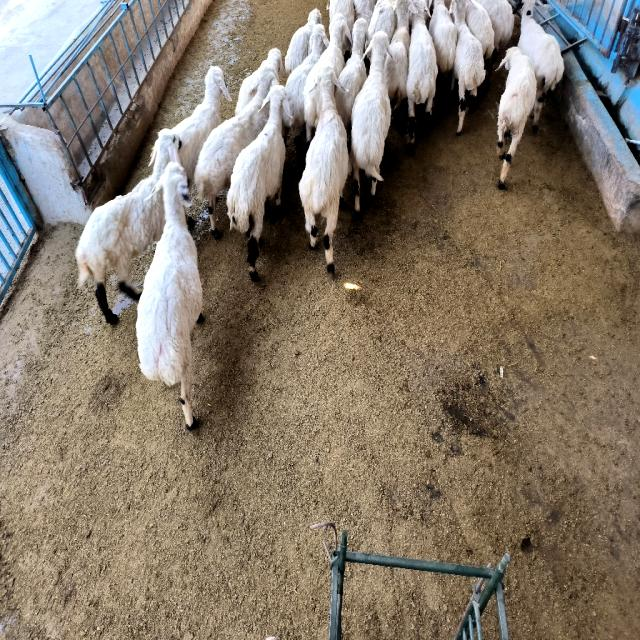sheep: (75, 132, 179, 323), (136, 163, 202, 428), (194, 67, 278, 236), (226, 85, 286, 281), (299, 62, 349, 275), (351, 32, 392, 216), (172, 67, 231, 184), (514, 0, 564, 128), (282, 23, 329, 155), (304, 13, 351, 144), (498, 47, 536, 188), (406, 0, 438, 152), (451, 0, 485, 134), (335, 18, 368, 129), (385, 0, 416, 114), (235, 48, 282, 114), (476, 0, 514, 71), (429, 0, 458, 92), (285, 8, 321, 75), (465, 0, 494, 78), (368, 0, 398, 46)
